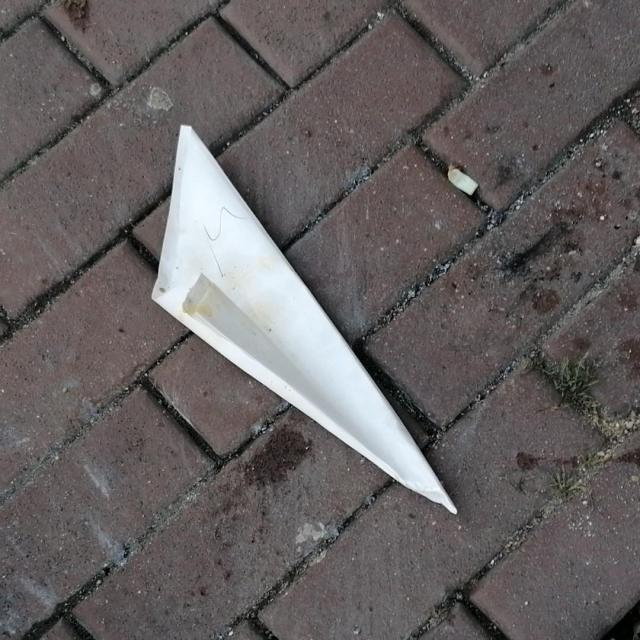Paper: (149, 123, 459, 516)
